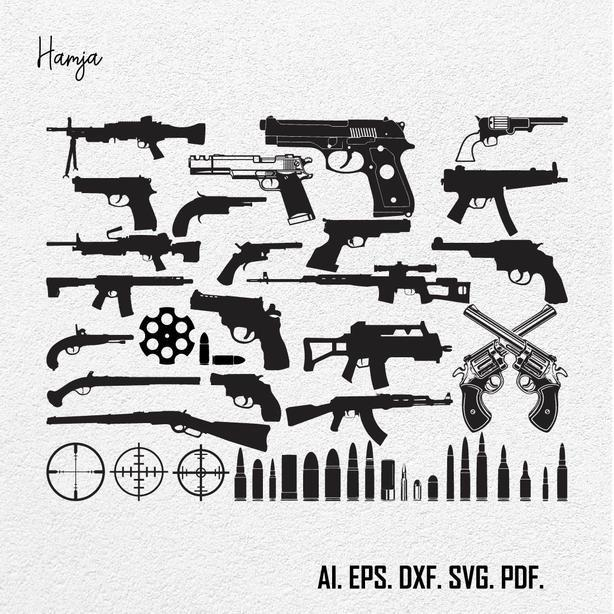Firearm: (250, 107, 425, 215), (456, 297, 580, 441), (297, 312, 452, 391), (37, 107, 205, 178), (435, 158, 576, 236), (40, 227, 223, 277), (189, 286, 290, 376), (63, 168, 176, 237), (302, 220, 413, 271), (207, 370, 286, 424)
